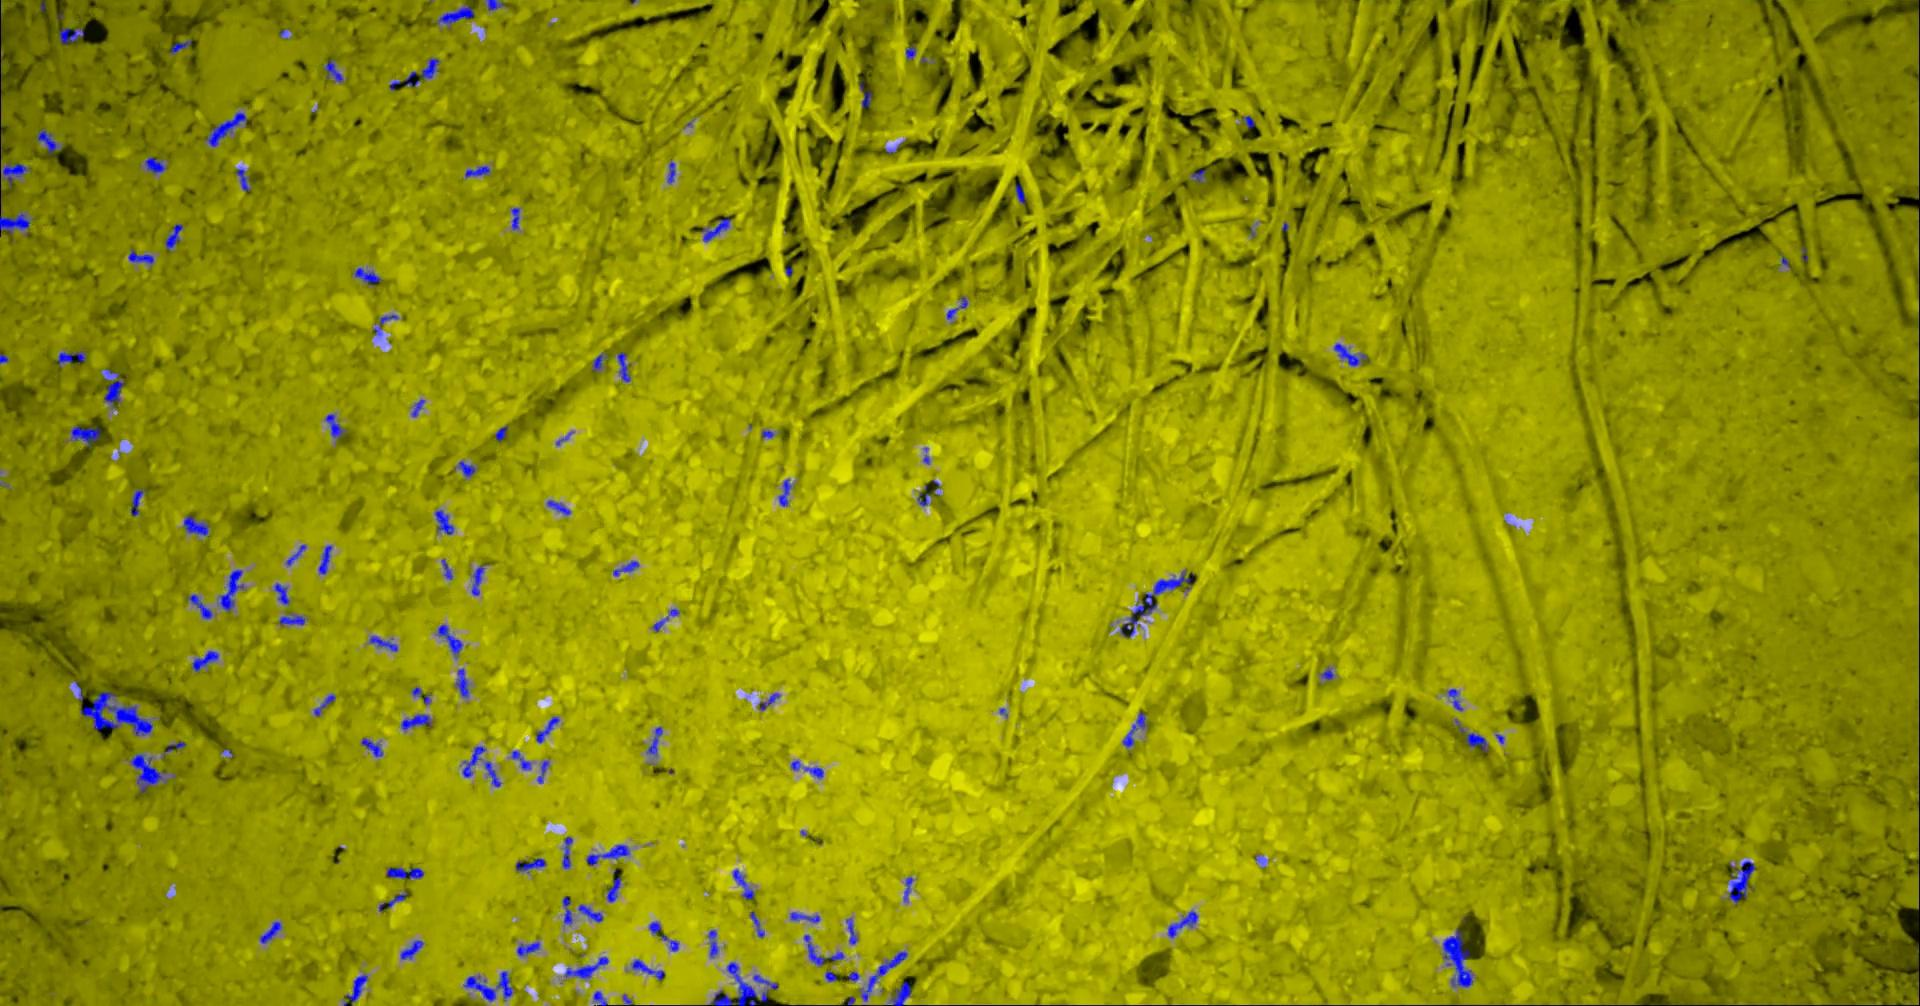ant: (1121, 569, 1196, 636), (711, 962, 770, 1005), (862, 951, 909, 1001), (1444, 929, 1474, 987), (206, 112, 249, 146), (465, 970, 513, 1001), (132, 753, 168, 793), (805, 934, 844, 965), (1730, 860, 1757, 903), (405, 57, 441, 86), (221, 569, 245, 610), (588, 843, 631, 865), (566, 956, 610, 978), (438, 624, 463, 657), (1170, 909, 1199, 937), (1124, 711, 1147, 747), (437, 4, 476, 24), (1335, 343, 1369, 366), (104, 368, 124, 406), (463, 746, 488, 777), (345, 974, 370, 1005), (632, 959, 665, 981), (703, 217, 733, 241), (1, 163, 30, 185), (1, 212, 32, 234), (734, 869, 756, 899), (37, 130, 63, 154), (792, 760, 825, 779), (189, 594, 215, 619), (537, 716, 561, 742), (72, 426, 102, 446), (380, 890, 409, 911), (375, 314, 400, 335), (193, 650, 220, 671), (184, 514, 210, 535), (328, 413, 347, 439), (166, 224, 184, 251), (356, 267, 383, 285), (315, 694, 337, 716), (891, 981, 912, 1005), (58, 351, 88, 367), (262, 921, 283, 942), (949, 296, 969, 319), (403, 714, 433, 729), (517, 857, 547, 873), (371, 635, 399, 652), (648, 727, 664, 754), (325, 58, 344, 83), (436, 509, 455, 533), (401, 940, 425, 959), (579, 904, 604, 922), (132, 488, 149, 514), (1467, 732, 1490, 751), (618, 351, 632, 381), (60, 27, 85, 43), (486, 761, 503, 786), (288, 544, 307, 565), (362, 737, 383, 756), (472, 565, 486, 594), (750, 911, 766, 937), (130, 248, 155, 263), (615, 560, 640, 575), (457, 667, 470, 697), (513, 749, 533, 768), (754, 974, 780, 989), (389, 868, 425, 878), (320, 545, 333, 574), (563, 836, 574, 868), (146, 156, 168, 173), (456, 460, 477, 476), (759, 694, 781, 710), (780, 478, 792, 506), (608, 876, 622, 902), (549, 499, 571, 514), (276, 582, 291, 605), (413, 686, 432, 704), (662, 934, 681, 951), (792, 911, 822, 922), (1449, 688, 1464, 710), (466, 165, 491, 178), (170, 39, 193, 53), (237, 168, 251, 191), (709, 929, 720, 956), (847, 917, 858, 944), (594, 352, 610, 371), (518, 942, 541, 955), (564, 895, 574, 923), (538, 760, 550, 782), (1016, 183, 1029, 203), (281, 615, 306, 625), (919, 484, 931, 506), (443, 558, 455, 579), (905, 876, 916, 901), (413, 399, 425, 417), (594, 989, 608, 1005), (668, 160, 677, 183), (1192, 169, 1208, 182), (497, 426, 509, 441), (168, 741, 187, 751), (512, 207, 521, 229), (488, 0, 505, 10), (1243, 116, 1256, 128), (1323, 667, 1335, 680), (650, 921, 662, 934), (907, 44, 917, 58), (863, 91, 872, 107)
